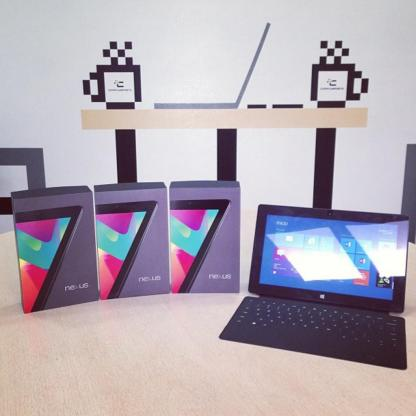board: (215, 204, 412, 372)
